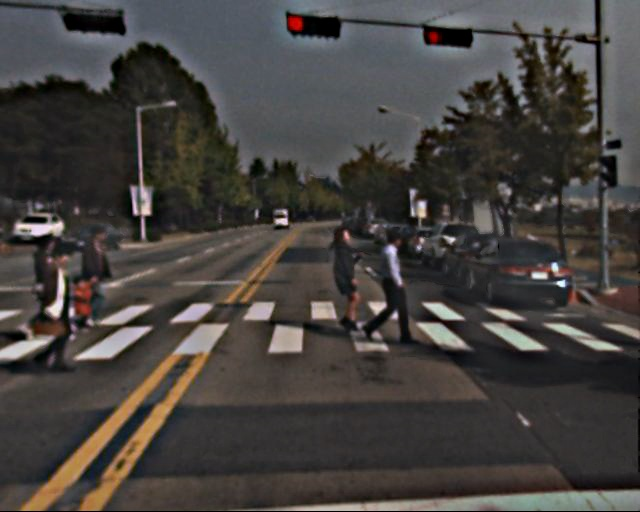person: (33, 243, 88, 376), (371, 231, 419, 348), (326, 226, 369, 332), (30, 233, 73, 338), (75, 226, 116, 327)
